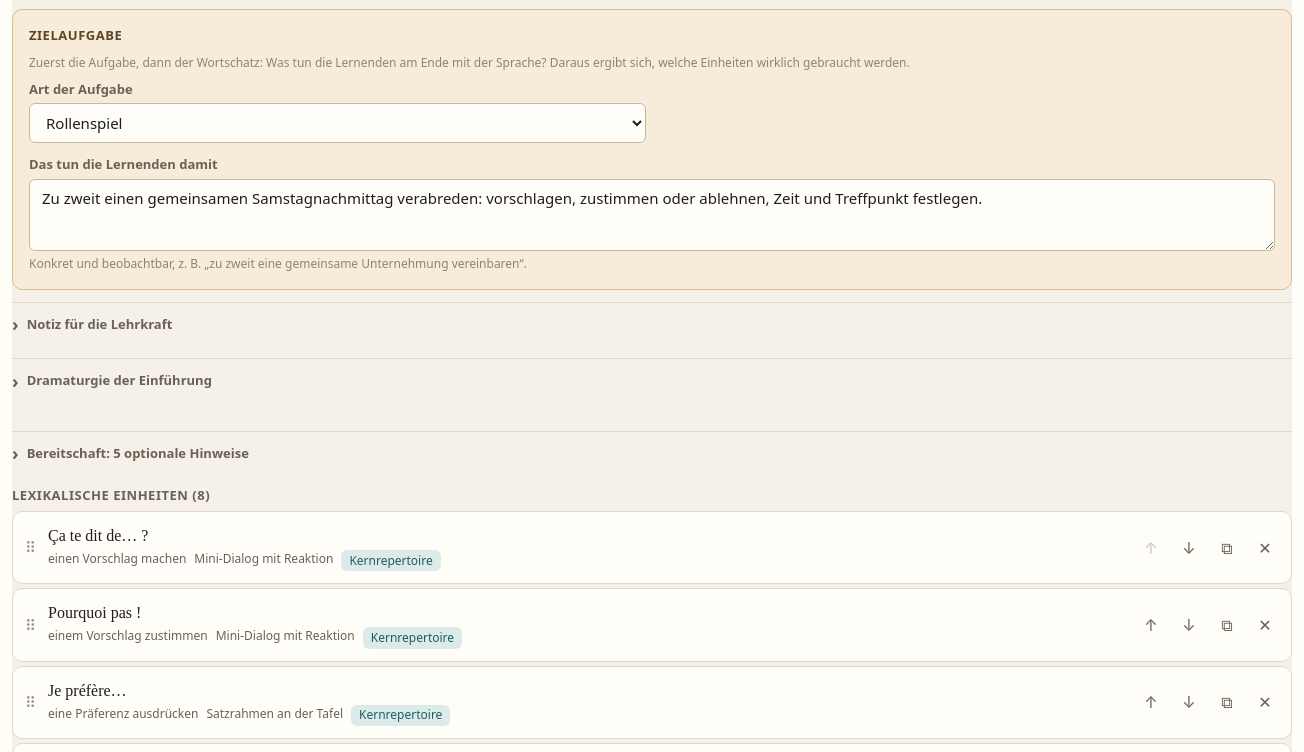
Test: Sequenzspalte › zeigt die sechs Phasen als Grundstruktur
(page scrolled)
Click the heading "Dramaturgie der Einführung". click: (119, 380)
box: [27,371,212,389]
(page scrolled)
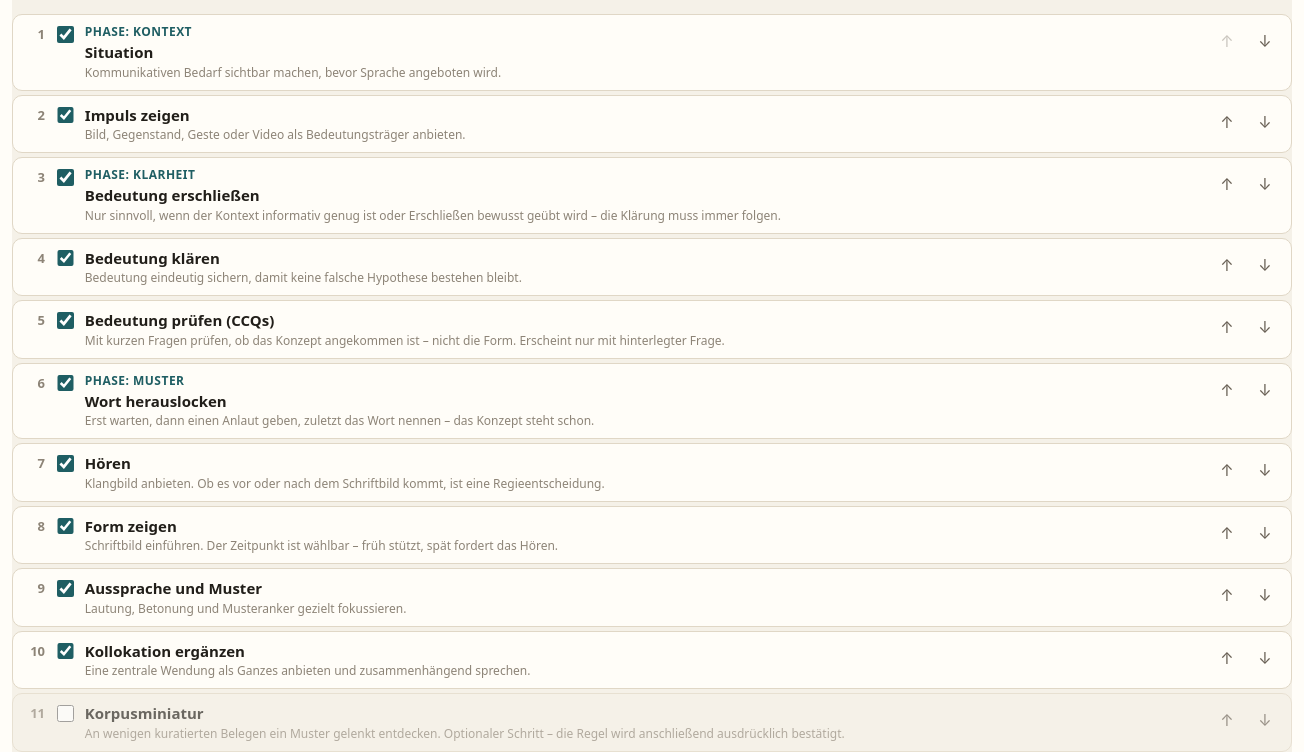
expect the text "Phase: Kontext" is shown: met, box [85,23,192,40]
expect the text "Phase: Muster" is shown: met, box [85,372,184,388]
